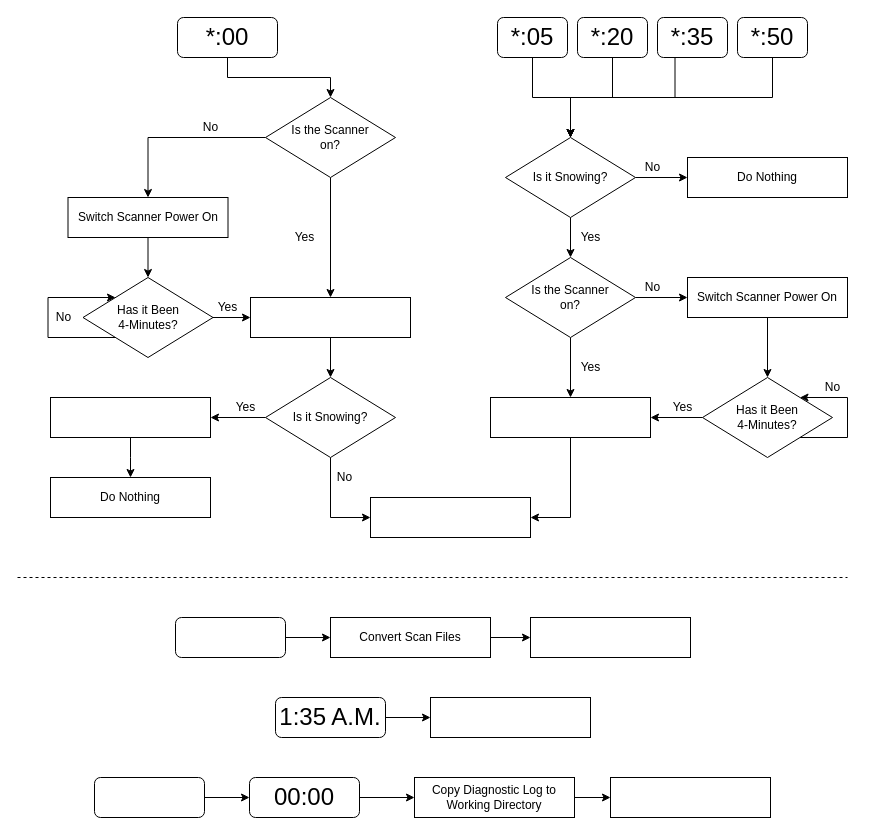
The diagram is 873 pixels wide and 835 high, and some of its shapes have lost their labels. The box of each missing label's shape, as (x1, y1, x2, y2) in pixels:
1:15 A.M.: (174, 616, 286, 658)
Clear Diagnostic Log for the new Month: (610, 776, 770, 818)
Compress Scan Files: (530, 616, 690, 658)
Conduct a TLS Extended Line Scan: (490, 396, 650, 438)
Conduct a TLS Frame Scan: (250, 296, 410, 338)
Conduct a TLS Line Scan: (50, 396, 210, 438)
First Day of Month: (94, 776, 204, 818)
Standby for next Cron job.: (370, 496, 530, 538)
Upload Scan Files to Server: (430, 696, 590, 738)
